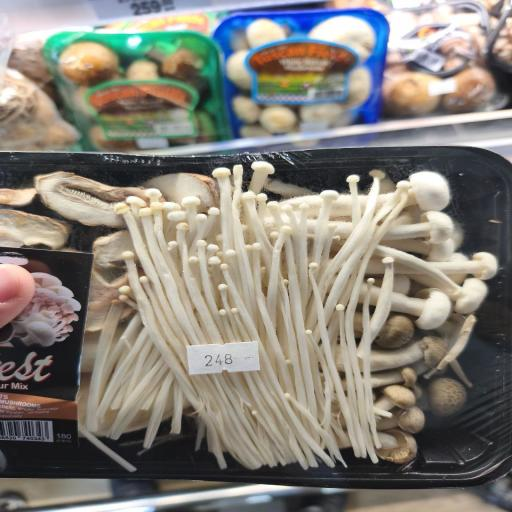Enoki Mushroom: (89, 143, 422, 480)
